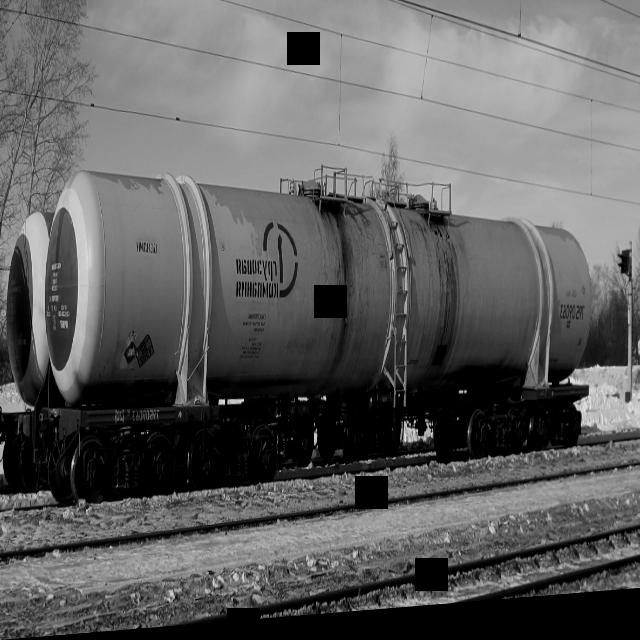tank: (34, 134, 597, 514), (0, 192, 53, 498)
